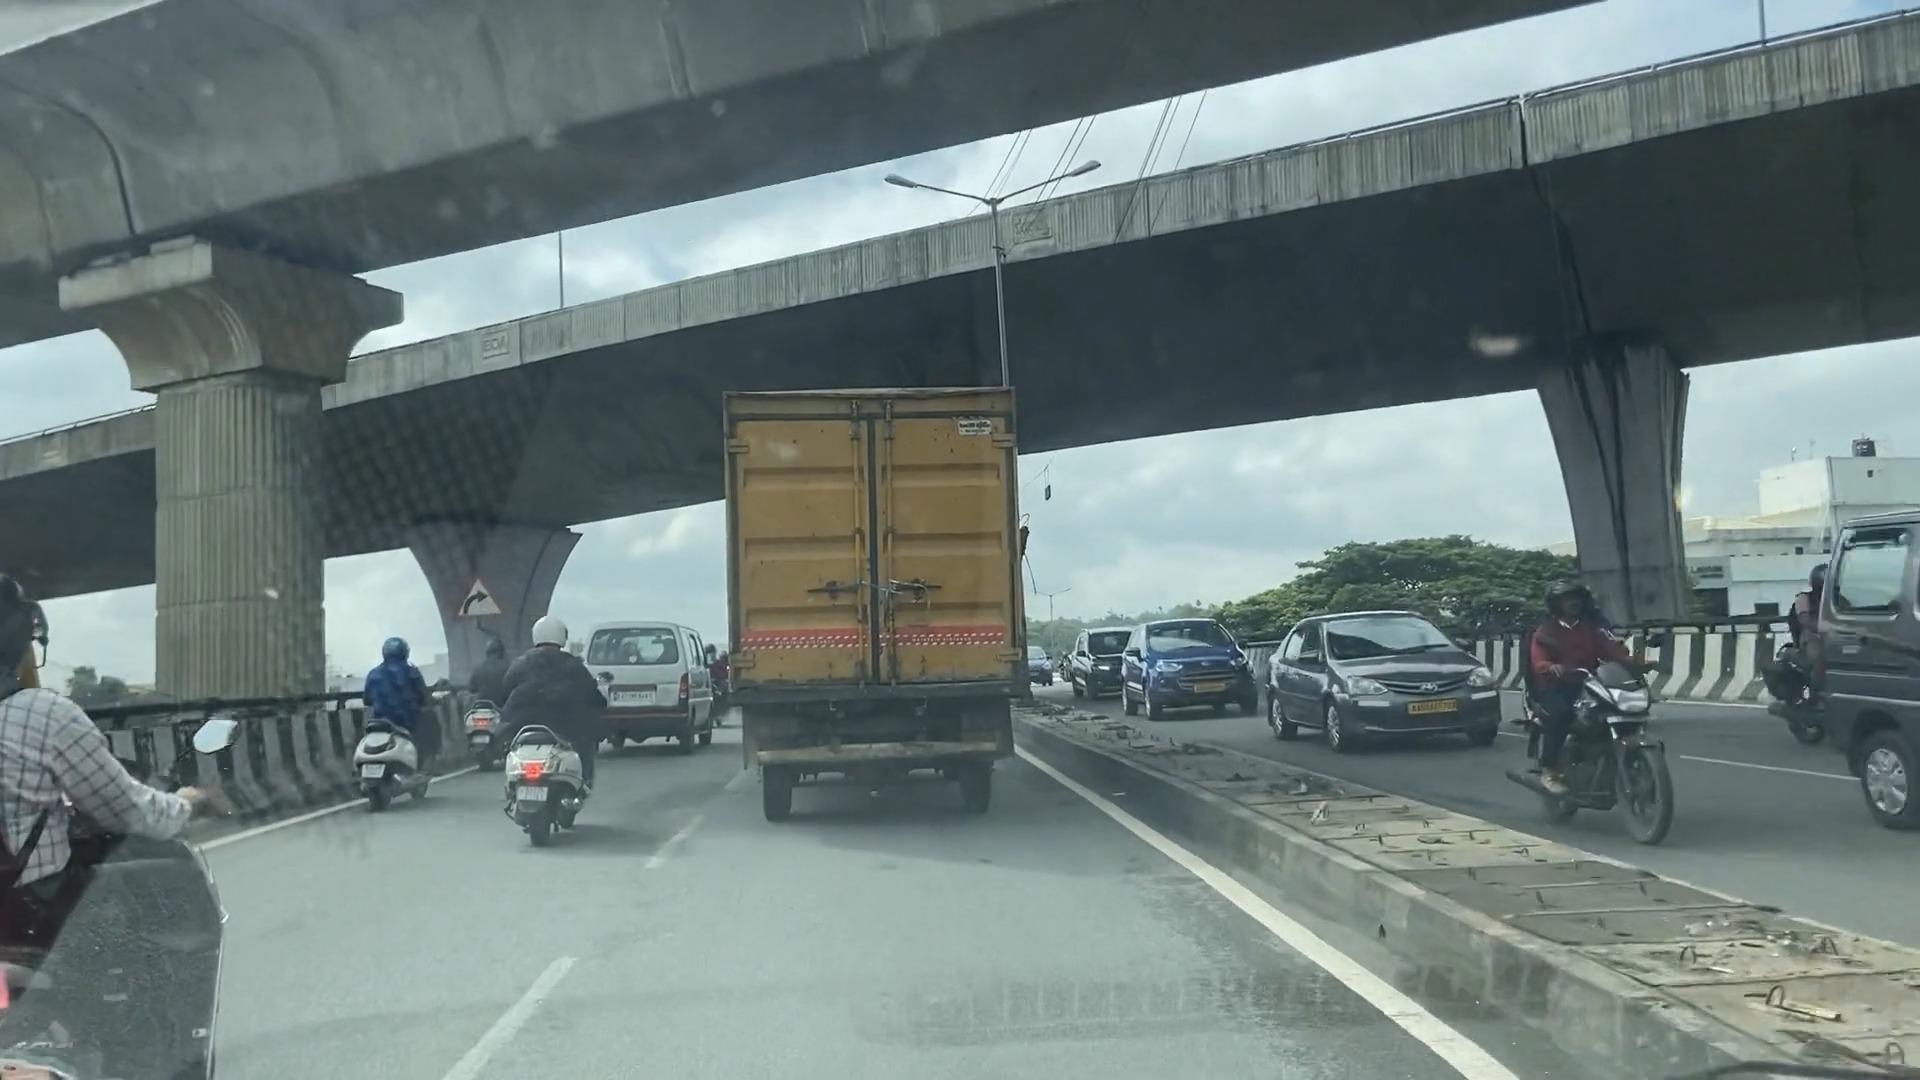HMV: (707, 384, 1044, 814)
LMV: (506, 607, 600, 851), (347, 633, 438, 804)
